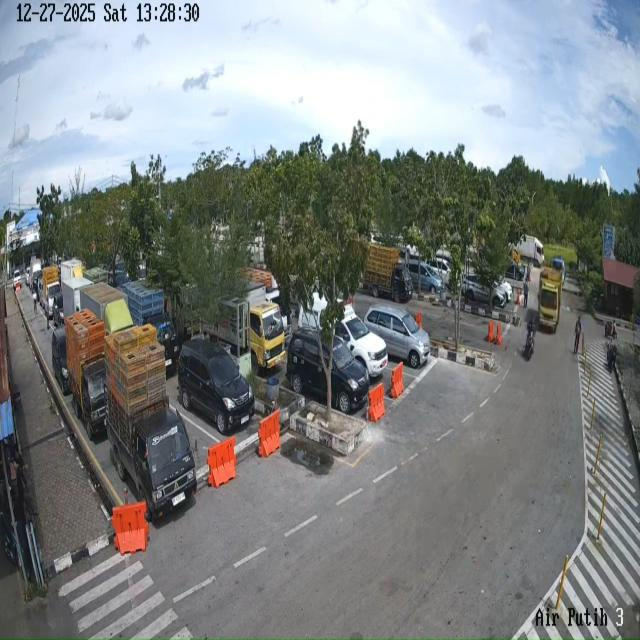Golongan IVA: (298, 292, 388, 377), (177, 339, 255, 434), (286, 328, 369, 413), (364, 304, 430, 368), (463, 273, 507, 308), (52, 326, 70, 396), (408, 261, 444, 294)
Golongan IVB: (106, 384, 196, 540), (65, 347, 105, 441), (364, 243, 414, 302)
Golongan VB: (202, 282, 286, 374), (538, 268, 562, 332)
